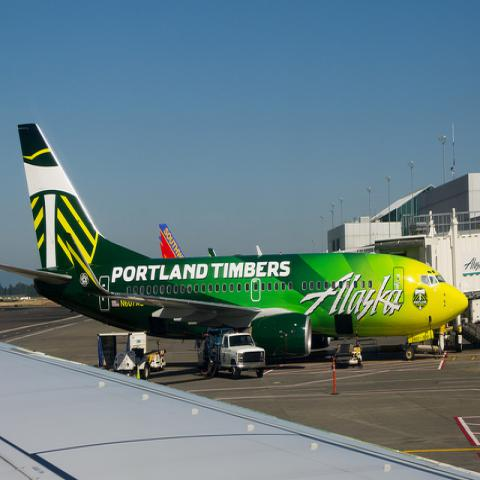truck: (197, 328, 266, 378)
